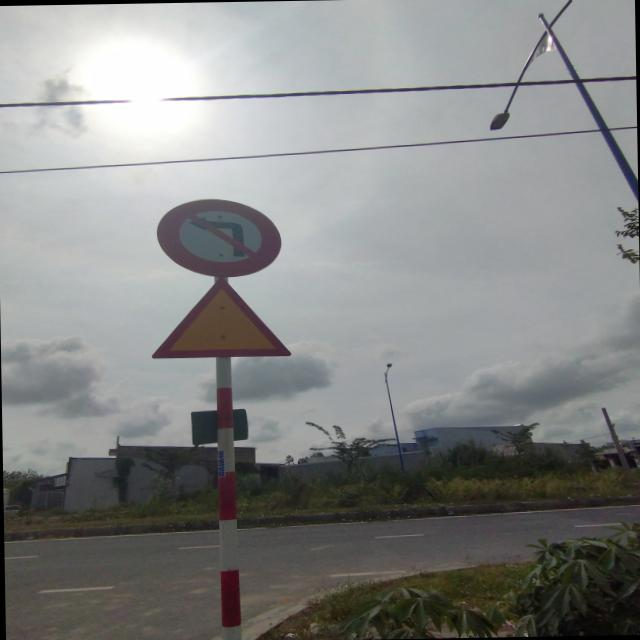Cam_Re_Trai: (154, 196, 280, 278)
Gioi_Han_Toc_Do_25: (151, 274, 291, 358)
